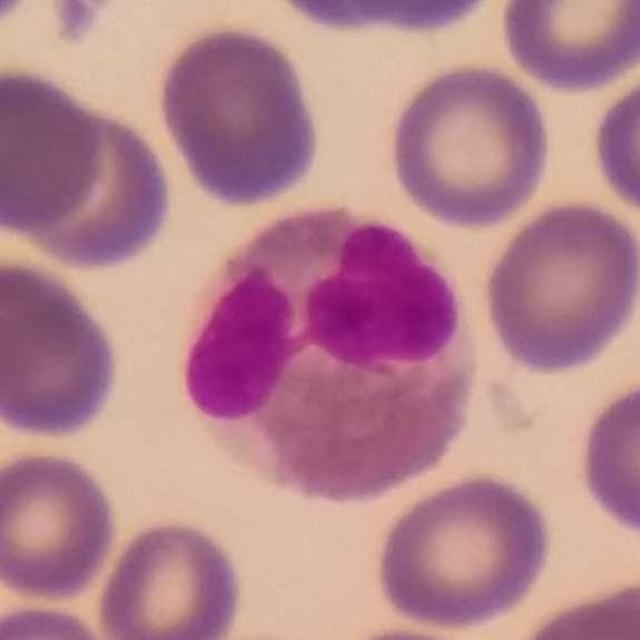eosino: (185, 199, 481, 507)
